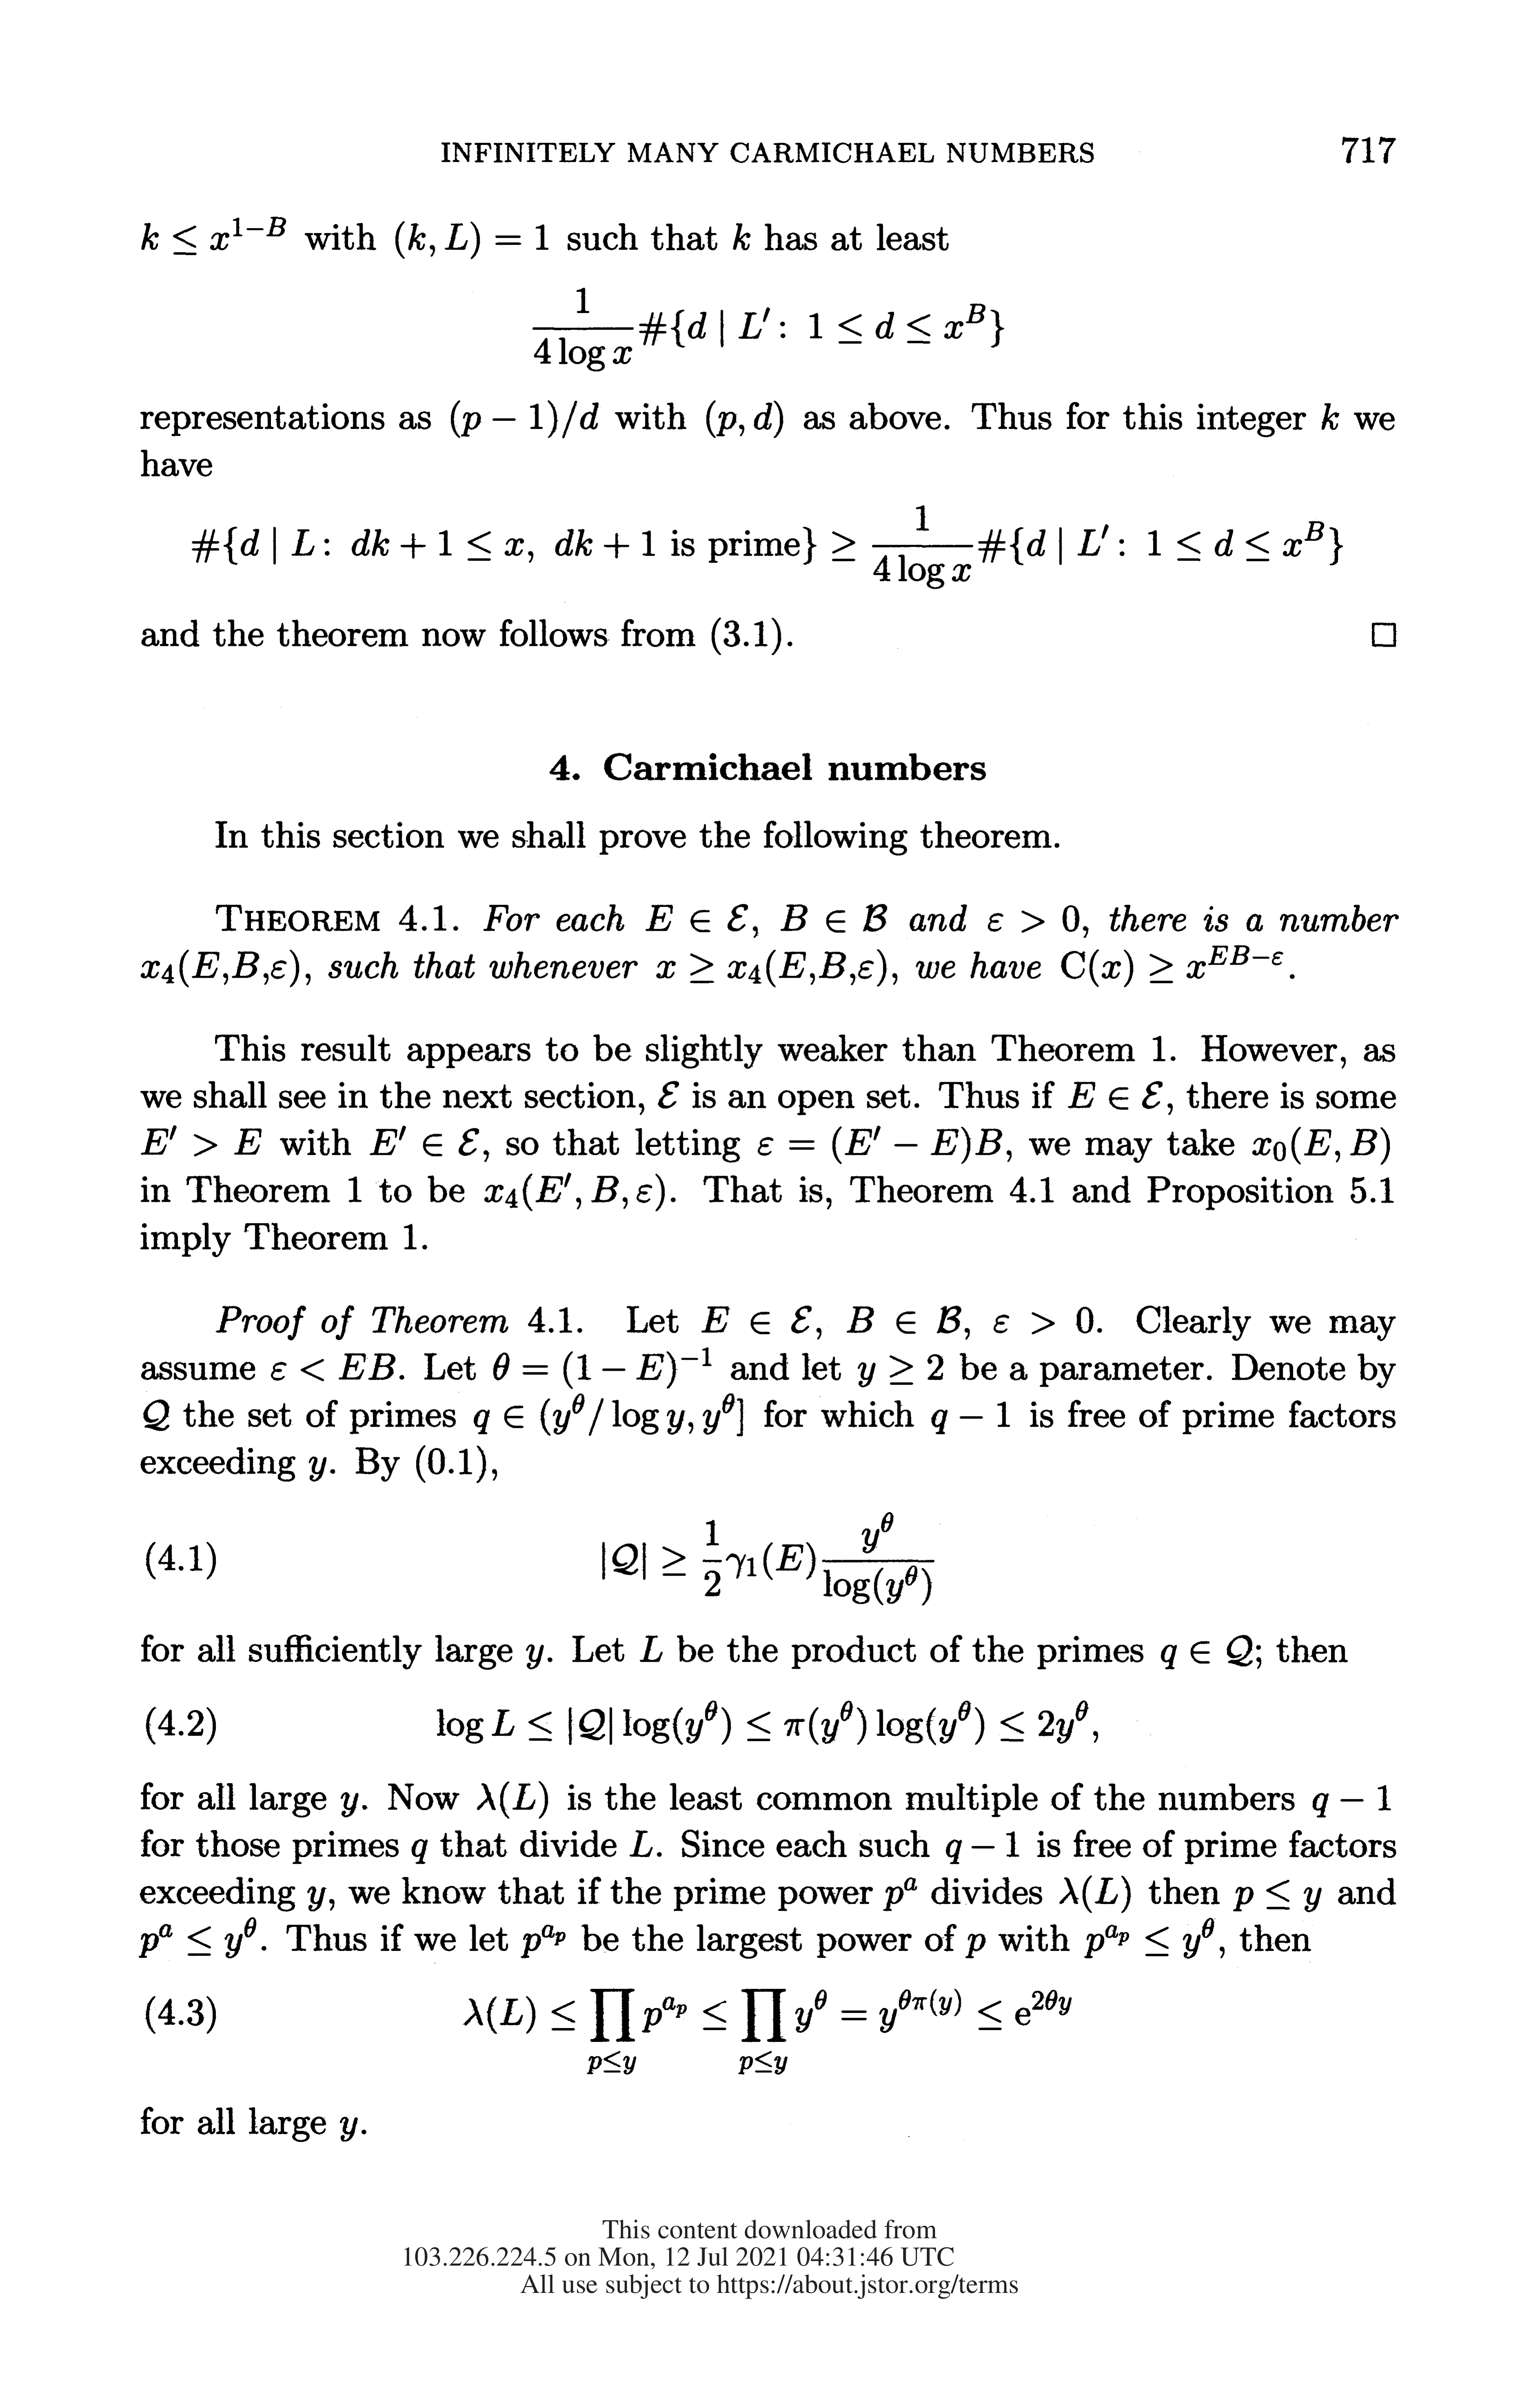maths: (486, 1989, 1072, 2075), (803, 505, 1342, 588), (533, 288, 1003, 370), (612, 1513, 940, 1604), (446, 1701, 1098, 1745), (191, 527, 533, 565), (503, 1394, 744, 1436), (758, 1125, 1012, 1164), (1061, 944, 1282, 986), (656, 950, 896, 986), (523, 1348, 710, 1388), (505, 1172, 675, 1211), (174, 216, 340, 254), (1084, 1918, 1224, 1959), (161, 950, 310, 986), (1252, 1127, 1389, 1165), (409, 221, 547, 258), (461, 400, 600, 437), (160, 1917, 267, 1959), (370, 1125, 489, 1162), (170, 1125, 305, 1157), (847, 1306, 970, 1339), (702, 1306, 821, 1339), (645, 904, 758, 937), (1161, 1636, 1261, 1669), (987, 906, 1089, 937), (781, 904, 888, 932), (554, 528, 654, 558), (300, 1353, 403, 1381), (995, 1308, 1102, 1334), (500, 1781, 575, 1818), (1233, 1880, 1321, 1911), (858, 1355, 944, 1387), (1068, 1081, 1163, 1109), (1059, 1876, 1131, 1913), (146, 1708, 216, 1745), (716, 400, 784, 437), (931, 1402, 1010, 1434), (1312, 1785, 1391, 1817), (945, 1831, 1019, 1864), (542, 1924, 602, 1952), (640, 1636, 696, 1662), (884, 1878, 917, 1911), (658, 1081, 700, 1107), (630, 1831, 661, 1857), (1372, 623, 1396, 646), (347, 1887, 375, 1904), (966, 1934, 986, 1959), (1323, 404, 1340, 430), (367, 2117, 384, 2141), (733, 223, 749, 249), (440, 1832, 453, 1857), (330, 1469, 335, 1474), (547, 1657, 553, 1662), (363, 1806, 367, 1810)
